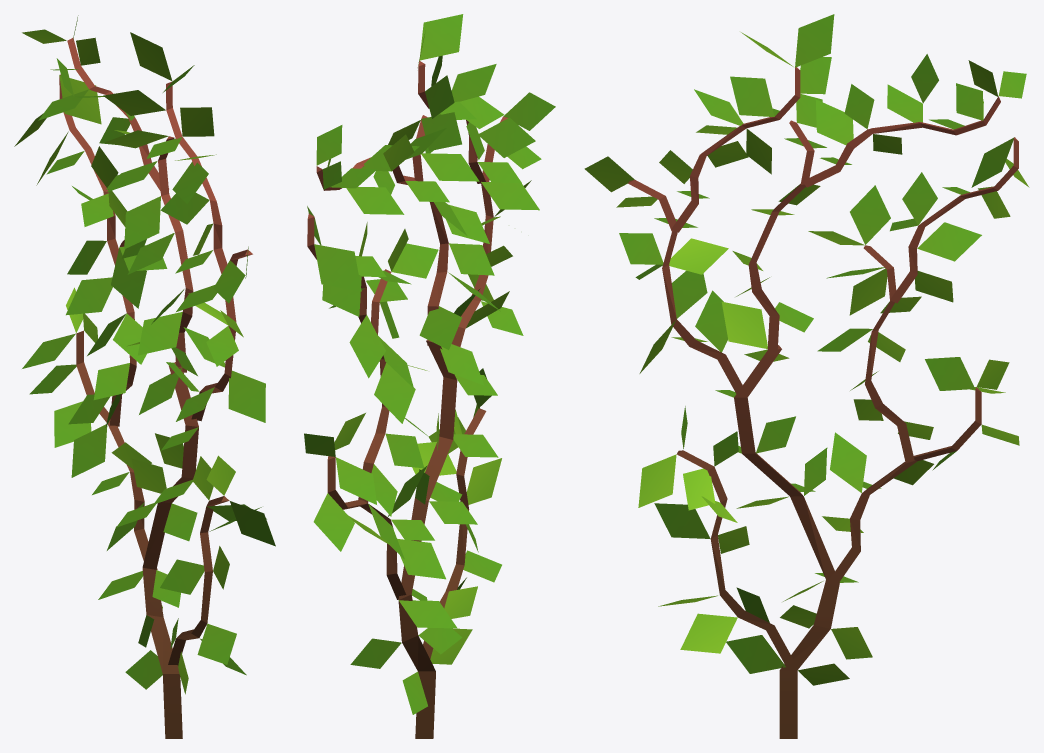
File: ivy1.glb
3 views of the same model, side by side, from view 1: azimuth 30°, elevation 25°; view 2: azimuth 150°, elevation 25°; view 3: azimuth 270°, elevation 25° (orthographic). The views are drawn at different scales.
Visible parts, largest first — view 1: MAT_MAIN; view 2: MAT_MAIN; view 3: MAT_MAIN.
Part boxes in pixels (<box>): MAT_MAIN: <box>14,15,275,738</box>; MAT_MAIN: <box>304,14,555,738</box>; MAT_MAIN: <box>584,14,1029,738</box>.
Bounding box in the file's own units: 0.9811 × 5.59 × 3.17.
Materials: 1 (1 with a texture image).
